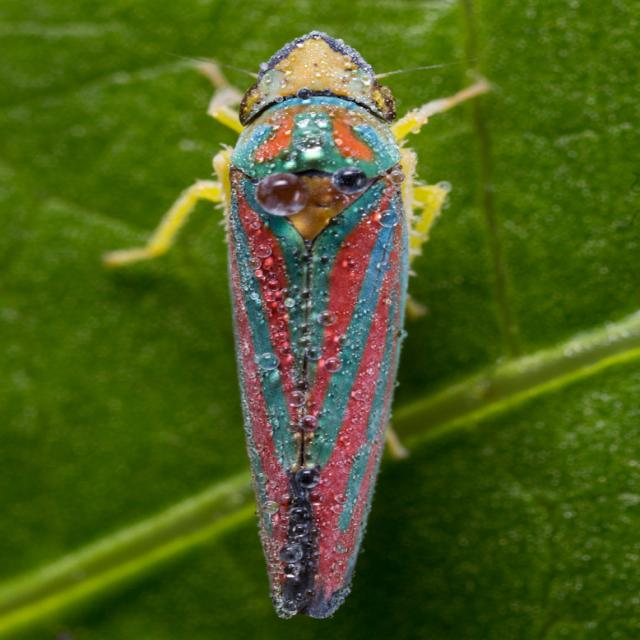Yechan: (142, 10, 464, 627)
